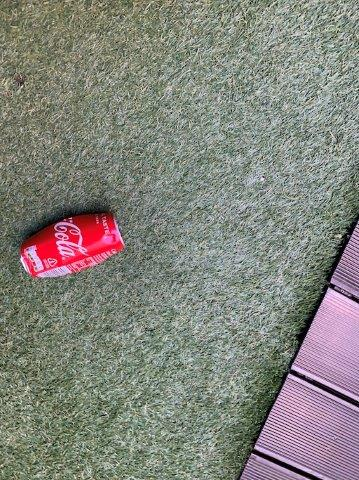kaleng: (20, 213, 124, 277)
